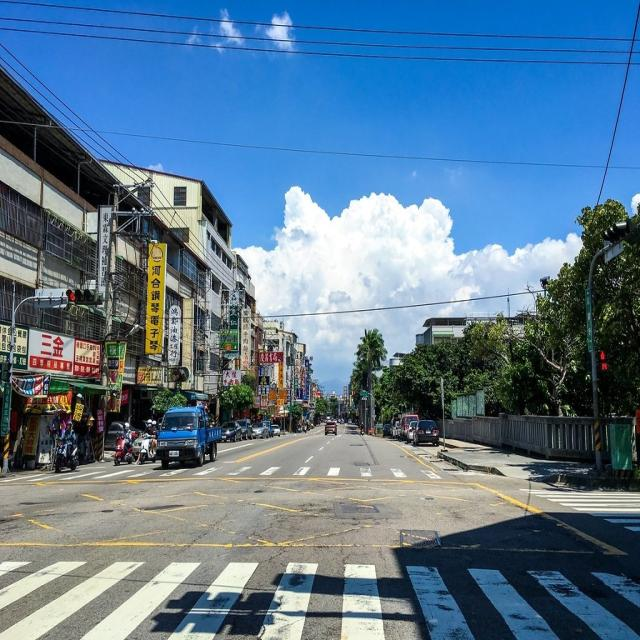red light: (67, 289, 99, 304)
